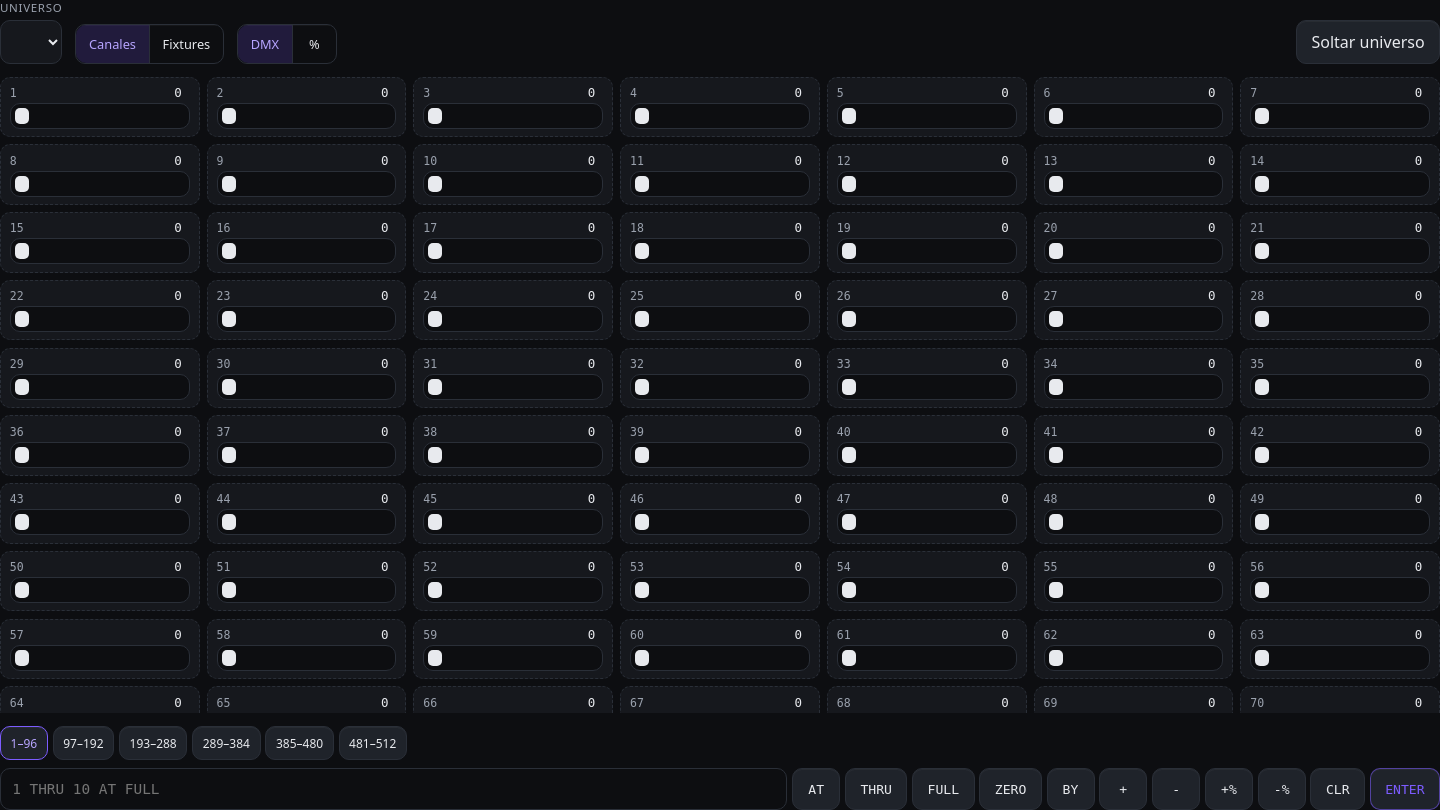
the keypad › builds the order from token keys with single spaces
This screenshot has width=1440, height=810.
Click the button "AT" at (816, 789), box [792,768,840,809]
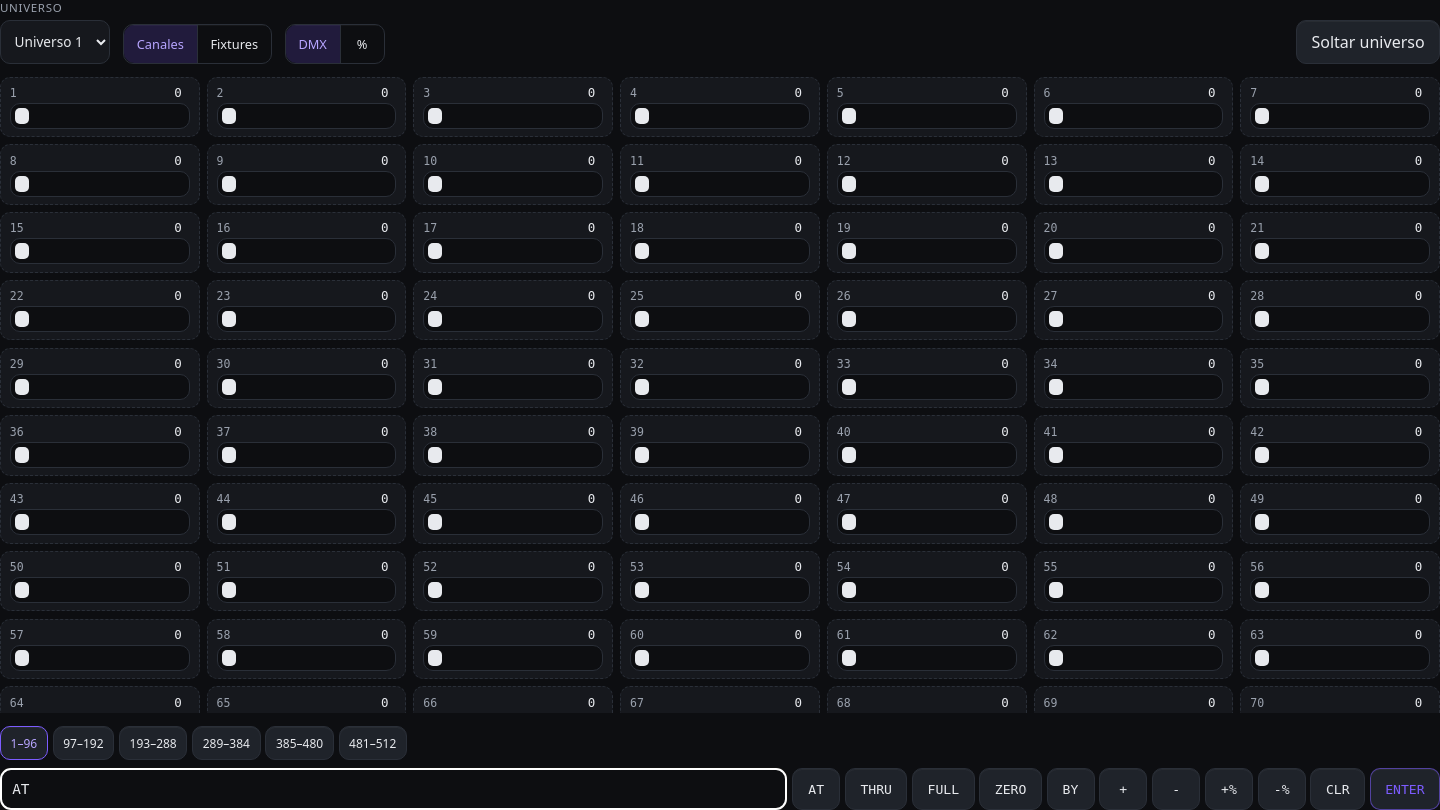
Click the button "THRU" at (876, 789), box [845,768,907,809]
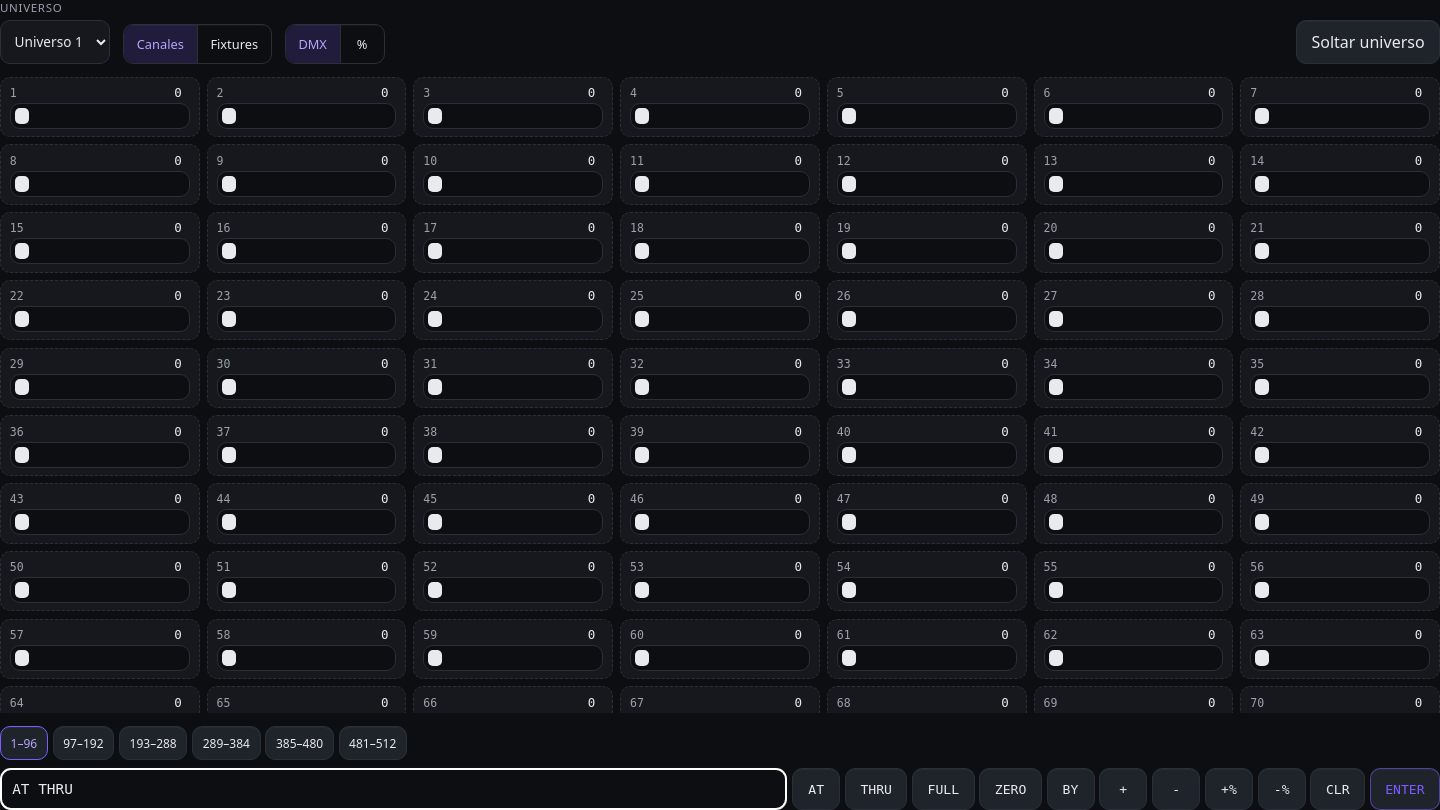
Check: the field named "Orden de teclado" holds "AT THRU ", box [0,768,787,809]
